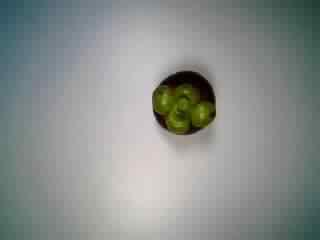mangosteen: (150, 67, 216, 138)
